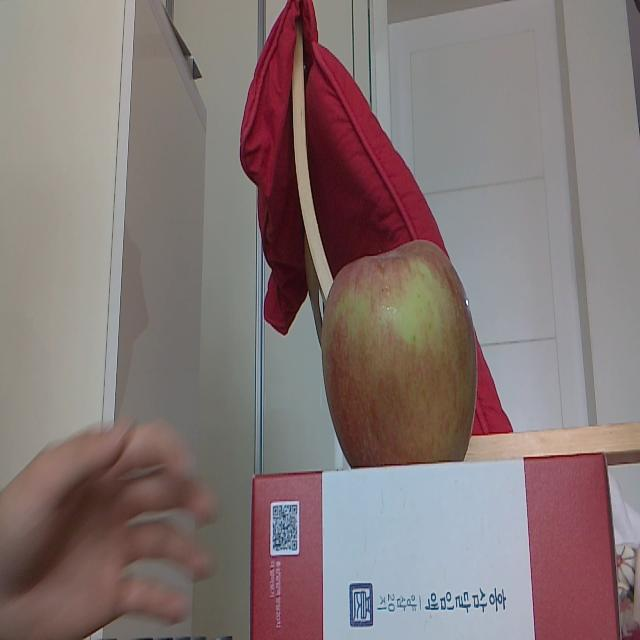apple: (322, 240, 478, 462)
